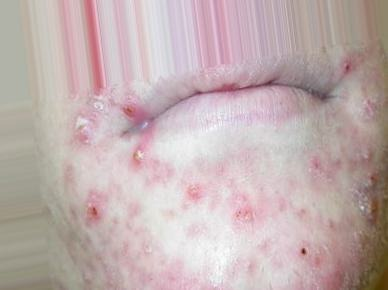Acne: (48, 90, 387, 258)
